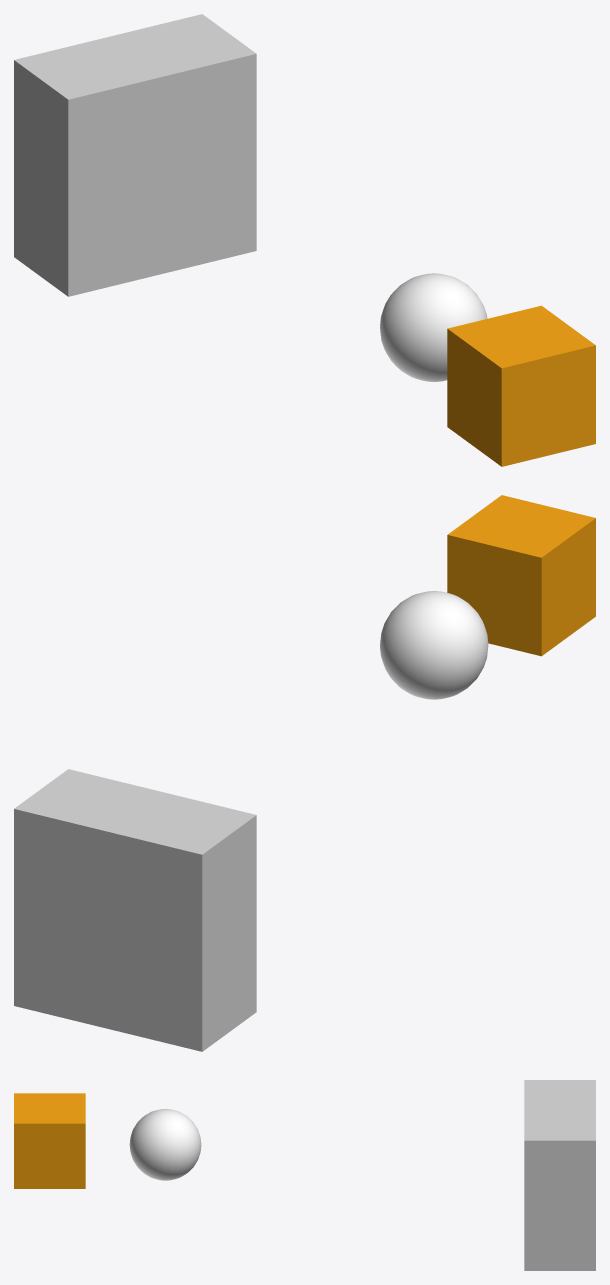
Rendered from main.scene.glb.
3 views of the same model, one above another, from view 1: azimuth 30°, elevation 25°; view 2: azimuth 150°, elevation 25°; view 3: azimuth 270°, elevation 25° (orthographic). The views are drawn at different scales.
Parts seen in each view (by area): view 1: enemy, player, soldier; view 2: enemy, player, soldier; view 3: enemy, player, soldier.
Part boxes in pixels (left/top/right/bottom): enemy: left=14, top=14, right=256, bottom=296; player: left=447, top=305, right=595, bottom=466; soldier: left=380, top=273, right=487, bottom=381; enemy: left=14, top=769, right=256, bottom=1051; player: left=447, top=495, right=595, bottom=656; soldier: left=380, top=591, right=488, bottom=699; enemy: left=524, top=1080, right=595, bottom=1270; player: left=14, top=1093, right=85, bottom=1188; soldier: left=129, top=1109, right=201, bottom=1180.
Size of what is drawn, in the model's own units: 2 by 2.03 by 8.1.
